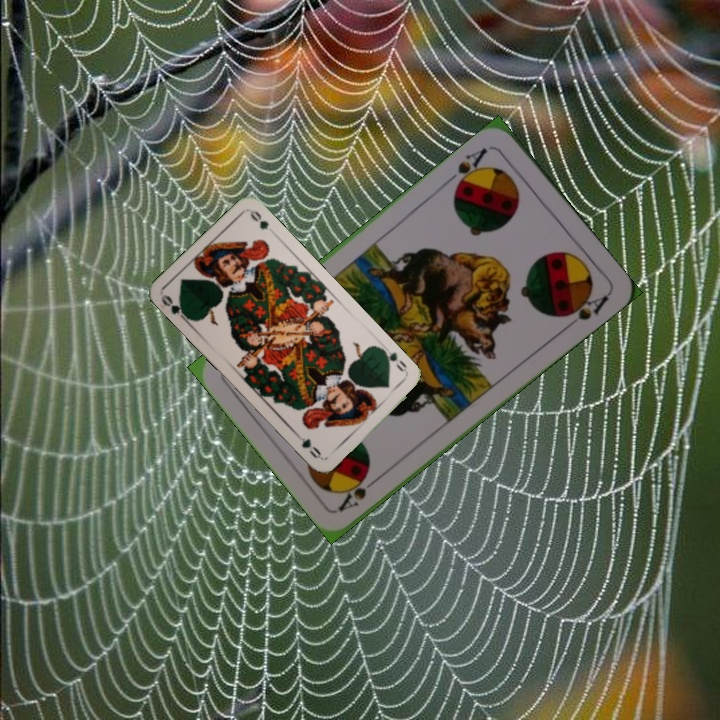GO: (157, 291, 193, 325), (379, 344, 410, 378)
SA: (442, 143, 491, 193), (334, 470, 384, 514)
